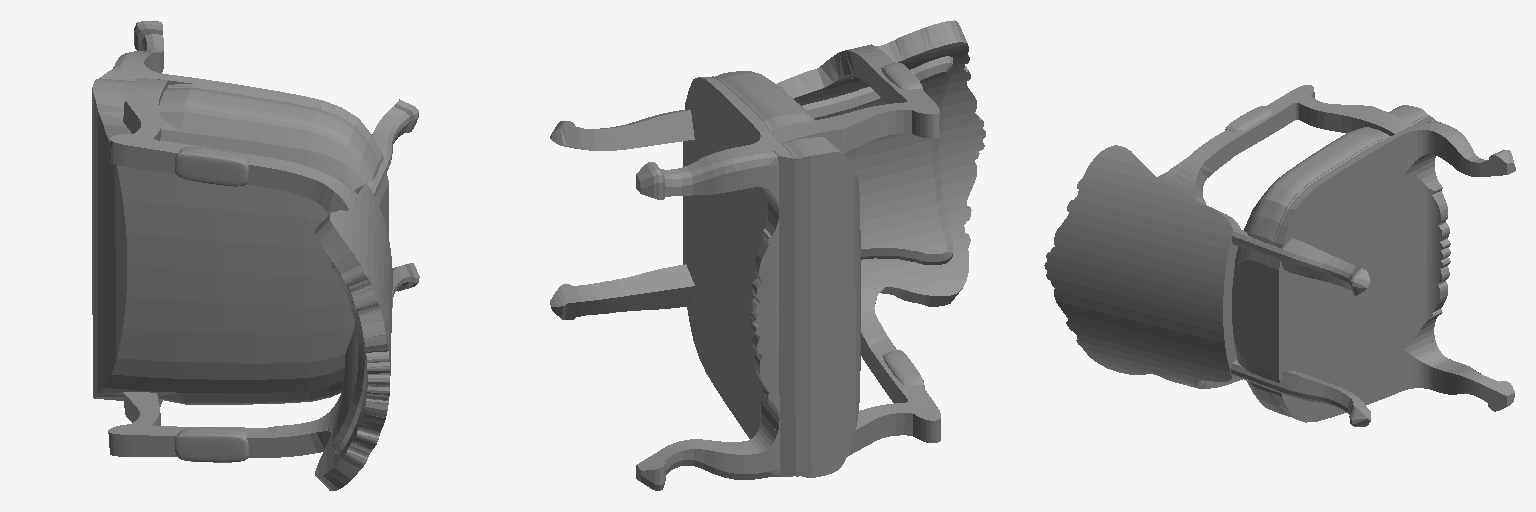
URDF robot description (cube.urdf):
<?xml version="0.0" ?> 
<robot name="cube.urdf"> 
<link name="legobrick"> 
<contact> 
<lateral_friction value="1.0"/>
<rolling_friction value="0.0"/>
<contact_cfm value="0.0"/>
<contact_erp value="1.0"/>
</contact> 
<inertial> 
<origin rpy="0 0 0" xyz="0.0 0.0 0.0"/> 
<mass value="0.1"/> 
<inertia ixx="1" ixy="0" ixz="0" iyy="1" iyz="0" izz="1"/> 
</inertial> 
<visual> 
<origin rpy="1.570796 0 0" xyz="0.005182441485068719 0.001790332095776069 -3.917245090127607e-05"/> 
<geometry> 
<mesh filename="7c1ef4694ec785e1742728b30848ed03.obj" scale="1 1 1"/> 
</geometry> 
<material name="yellow"> 
<color rgba="0.6 0.6 0.6 1"/> 
</material> 
</visual> 
<collision> 
<origin rpy="1.570796 0 0" xyz="0.005182441485068719 0.001790332095776069 -3.917245090127607e-05"/> 
<geometry> 
<mesh filename="7c1ef4694ec785e1742728b30848ed03_col.obj" scale="1 1 1"/> 
</geometry> 
</collision> 
</link> 
</robot>

--- Facts derived from the render (not from the file) ---
3 views of the same robot in one strip: view 1: azimuth 30°, elevation 25°; view 2: azimuth 150°, elevation 25°; view 3: azimuth 270°, elevation 25° (orthographic).
Robot: cube.urdf — 1 links, 0 joints (none); root link legobrick; default pose: all joints at 0.
Visible links, largest first — view 1: legobrick; view 2: legobrick; view 3: legobrick.
Boxes of the visible links, x1,y1,x2,y2 form: legobrick: [92, 21, 419, 490]; legobrick: [550, 20, 985, 490]; legobrick: [1044, 85, 1515, 426].
Size in the robot's own frame: 0.045 by 0.0651 by 0.0401 metres.
Meshes: 1 distinct files referenced, 1 mesh visuals loaded (1 OBJ).